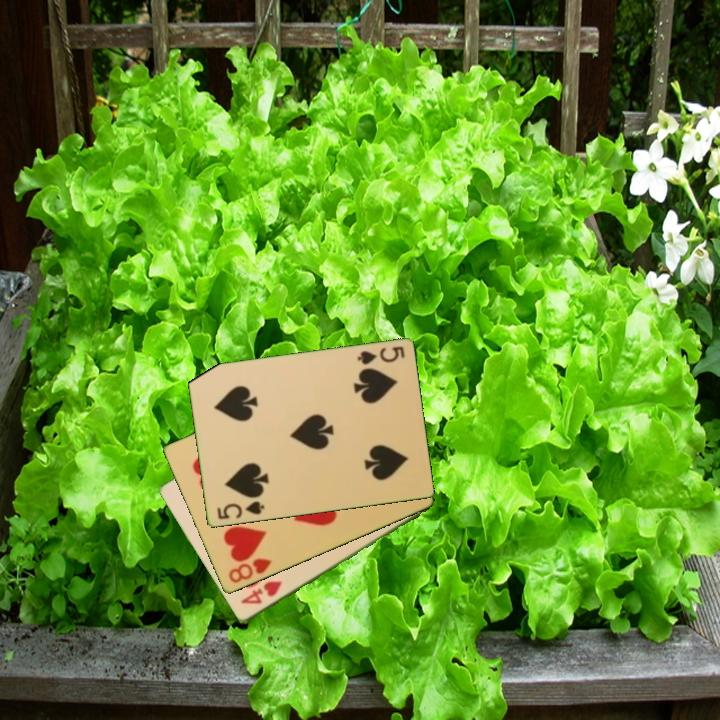4h: (237, 577, 285, 608)
5s: (213, 498, 267, 523), (354, 343, 407, 368)
8h: (225, 555, 274, 586)
